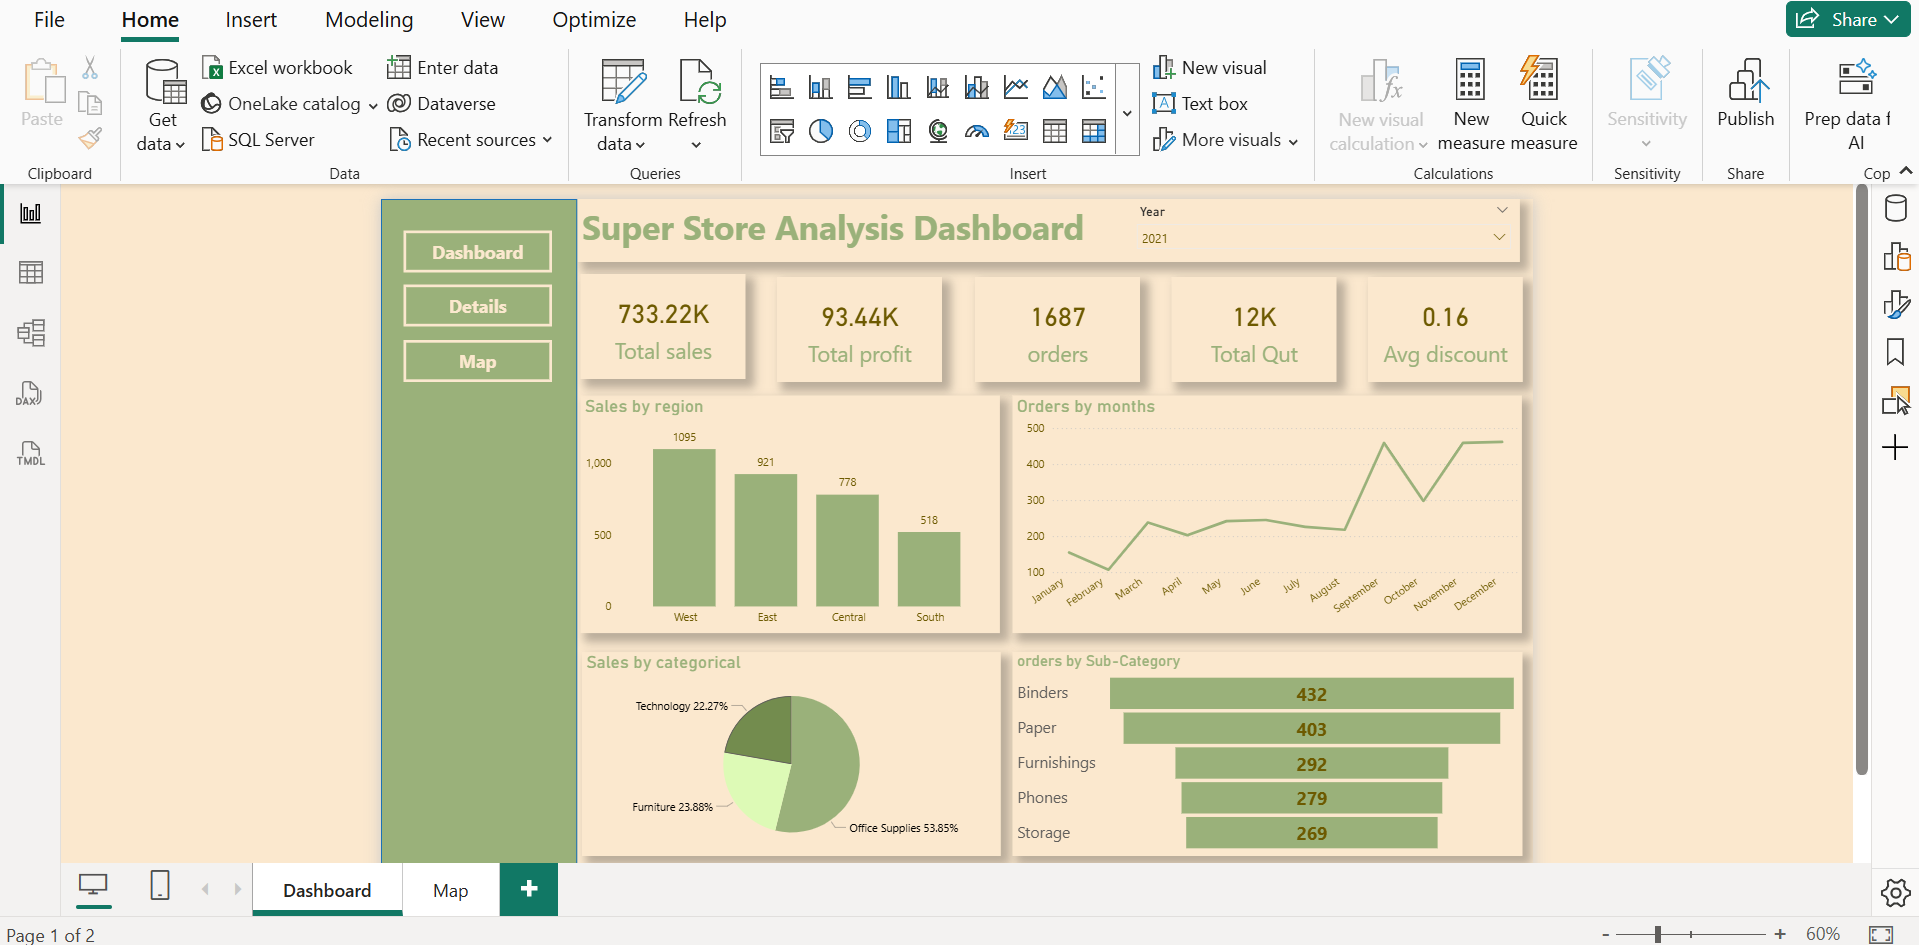

This screenshot's page, from the dashboard's own definition file:
{"tool":"powerbi","page":{"name":"Dashboard","canvas":[1280,850],"ordinal":0},"visuals":[{"type":"textbox","box":[218.3,0,1046.7,70],"z":0},{"type":"pieChart","title":"Sales by categorical","fields":{"Category":["Orders.Category"],"Y":["measure.orders"]},"box":[223.8,502,465,226.7],"z":0,"group":"g1"},{"type":"shape","box":[0,0,218,850],"z":1000},{"type":"columnChart","title":"Sales by region","fields":{"Category":["Orders.Region"],"Y":["CountNonNull(Orders.Order ID)"]},"box":[221.7,218.4,466,264],"z":1000,"group":"g1"},{"type":"slicer","fields":{"Values":["Orders.Order Date.Variation.Date Hierarchy.Year","Orders.Order Date.Variation.Date Hierarchy.Quarter","Orders.Order Date.Variation.Date Hierarchy.Month","Orders.Order Date.Variation.Date Hierarchy.Day"]},"box":[830,0,435,70],"z":2000},{"type":"lineChart","title":"Orders by months","fields":{"Y":["CountNonNull(Orders.Order ID)"],"Category":["Orders.Order Date.Variation.Date Hierarchy.Month"]},"box":[702.1,218.4,566.3,264],"z":2000,"group":"g1"},{"type":"actionButton","box":[25,35,165,46.7],"z":3000},{"type":"card","fields":{"Values":["measure.Total sales"]},"box":[222.3,82.8,183.3,116.7],"z":3000,"group":"g1"},{"type":"card","fields":{"Values":["measure.Avg discount"]},"box":[1096.7,86.7,171.7,116.7],"z":4000},{"type":"card","fields":{"Values":["measure.Total Qut"]},"box":[878.1,86.7,183.3,116.7],"z":5000},{"type":"card","fields":{"Values":["measure.orders"]},"box":[659.4,86.7,183.3,116.7],"z":6000},{"type":"card","fields":{"Values":["measure.Total profit"]},"box":[440.8,86.7,183.3,116.7],"z":7000},{"type":"funnel","fields":{"Category":["Orders.Sub-Category"],"Y":["measure.orders"]},"box":[702.1,502,566.7,226.7],"z":7000,"group":"g1"},{"type":"actionButton","box":[25,95,165,46.7],"z":8000},{"type":"actionButton","box":[25,156.7,165,46.7],"z":9000},{"type":"group","id":"g1","title":"Group 1","box":[221.7,82.8,1047.1,645.9],"z":10000}]}

Visuals, with their boxes on the page's 1280x850 design canvas (x1, y1, x2, y2). These are canvas units, not pixel positions in the 1919x945 screenshot, which may show the page scaled, cropped or inside an application window:
textbox: pyautogui.locateOnScreen(218, 0, 1265, 70)
"Sales by categorical" pieChart: pyautogui.locateOnScreen(224, 502, 689, 729)
shape: pyautogui.locateOnScreen(0, 0, 218, 850)
"Sales by region" columnChart: pyautogui.locateOnScreen(222, 218, 688, 482)
slicer - Orders.Order Date.Variation.Date Hierarchy.Year x Orders.Order Date.Variation.Date Hierarchy.Quarter: pyautogui.locateOnScreen(830, 0, 1265, 70)
"Orders by months" lineChart: pyautogui.locateOnScreen(702, 218, 1268, 482)
actionButton: pyautogui.locateOnScreen(25, 35, 190, 82)
card - measure.Total sales: pyautogui.locateOnScreen(222, 83, 406, 200)
card - measure.Avg discount: pyautogui.locateOnScreen(1097, 87, 1268, 203)
card - measure.Total Qut: pyautogui.locateOnScreen(878, 87, 1061, 203)
card - measure.orders: pyautogui.locateOnScreen(659, 87, 843, 203)
card - measure.Total profit: pyautogui.locateOnScreen(441, 87, 624, 203)
funnel - Orders.Sub-Category x measure.orders: pyautogui.locateOnScreen(702, 502, 1269, 729)
actionButton: pyautogui.locateOnScreen(25, 95, 190, 142)
actionButton: pyautogui.locateOnScreen(25, 157, 190, 203)
"Group 1" group: pyautogui.locateOnScreen(222, 83, 1269, 729)
